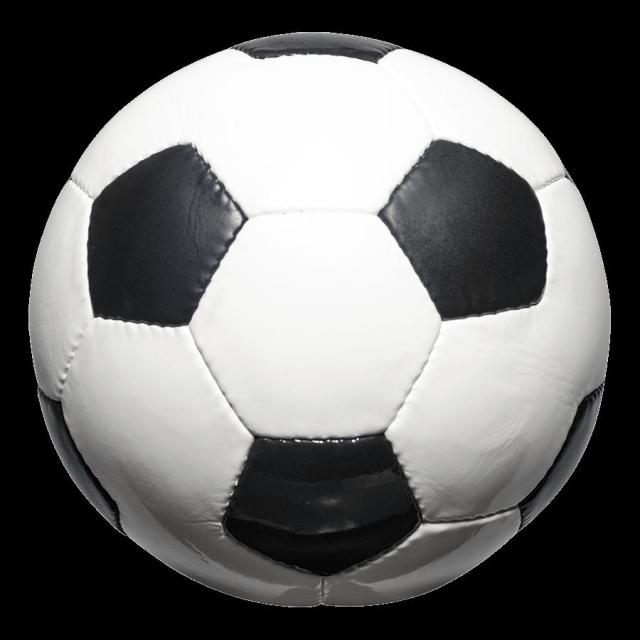Soccer Ball: (28, 32, 611, 604)
